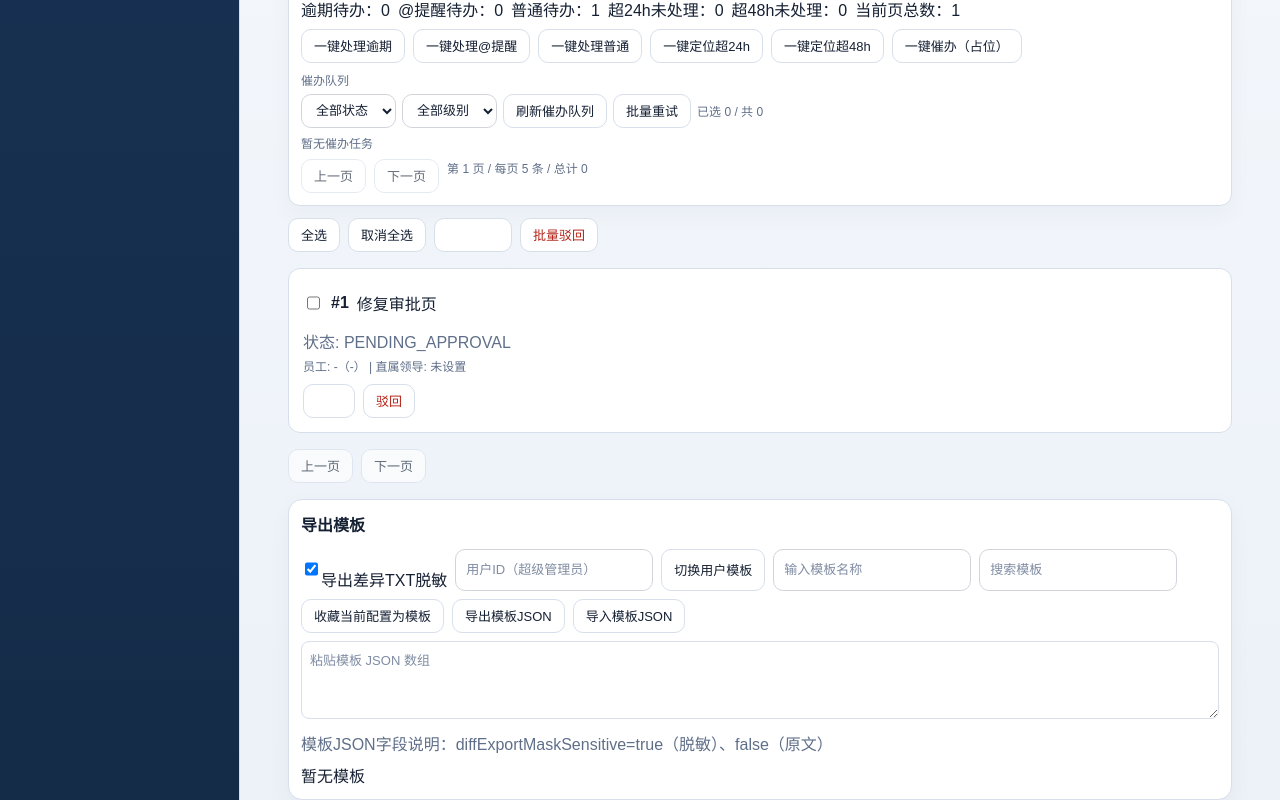
Test: ManagerReviewsPage › approves report and removes it from list
(page scrolled)
Expected: the text "修复审批页" is shown, x1=357 y1=296 x2=437 y2=312
What coordinates should you click on to do the following:
click the button "通过"
I would click on:
 (329, 400)
Its box is x1=303 y1=384 x2=355 y2=418.
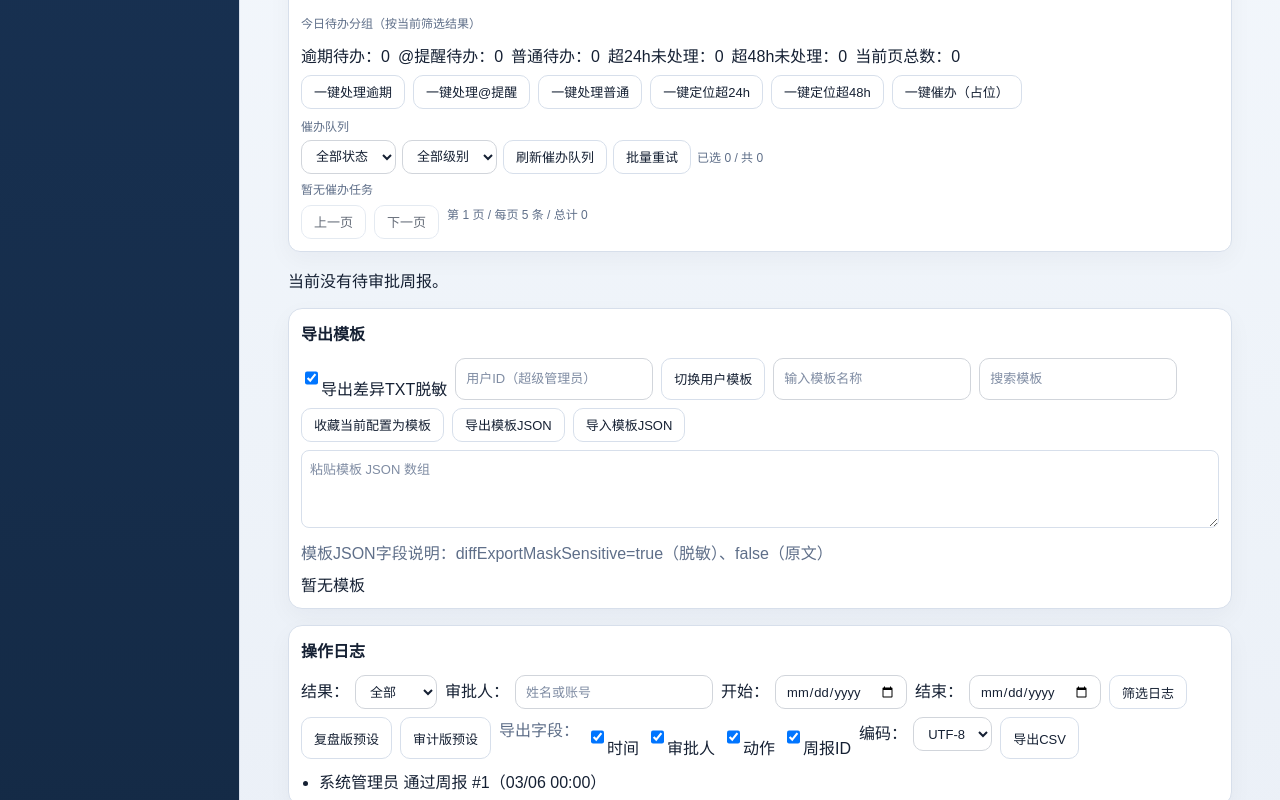
Expected: the text "修复审批页" is gone
Expected: the list item "周报 #1" is shown, x1=319 y1=774 x2=606 y2=791
